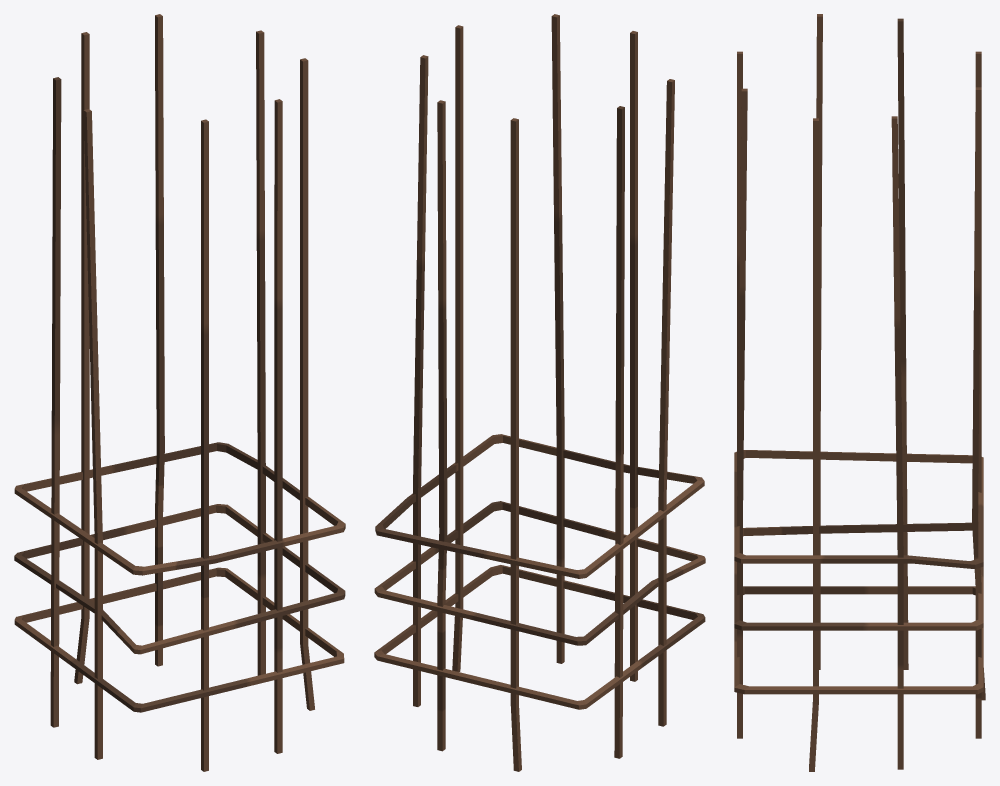
File: SM_Bld_ConcreteRebar_Pillar_Short_02.fbx
3 renders of one model, left to right at view 1: azimuth 30°, elevation 25°; view 2: azimuth 150°, elevation 25°; view 3: azimuth 270°, elevation 25°, orthographic.
Parts seen in each view (by area): view 1: SM_Bld_ConcreteRebar_Pillar_Short_02; view 2: SM_Bld_ConcreteRebar_Pillar_Short_02; view 3: SM_Bld_ConcreteRebar_Pillar_Short_02.
Part boxes in pixels (x1,y1,x2,y2): SM_Bld_ConcreteRebar_Pillar_Short_02: (14, 14, 345, 771); SM_Bld_ConcreteRebar_Pillar_Short_02: (374, 14, 705, 771); SM_Bld_ConcreteRebar_Pillar_Short_02: (734, 14, 985, 771).
Size of the model in its own units: 106 by 292 by 103.
